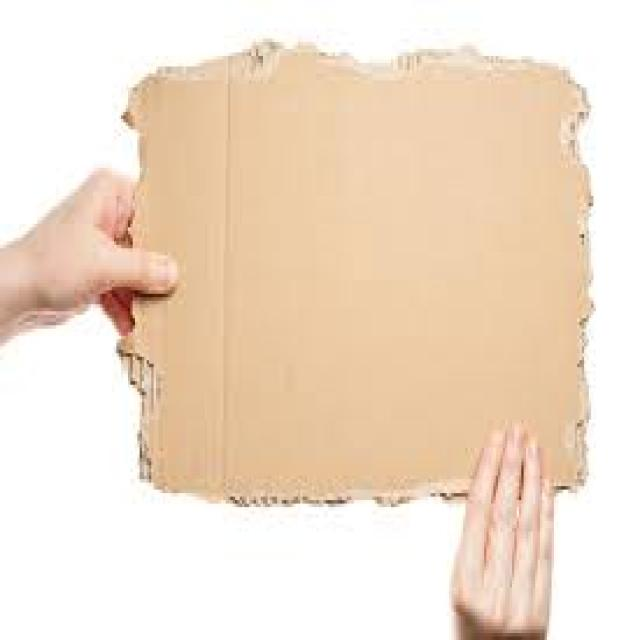cardboard: (119, 46, 591, 503)
